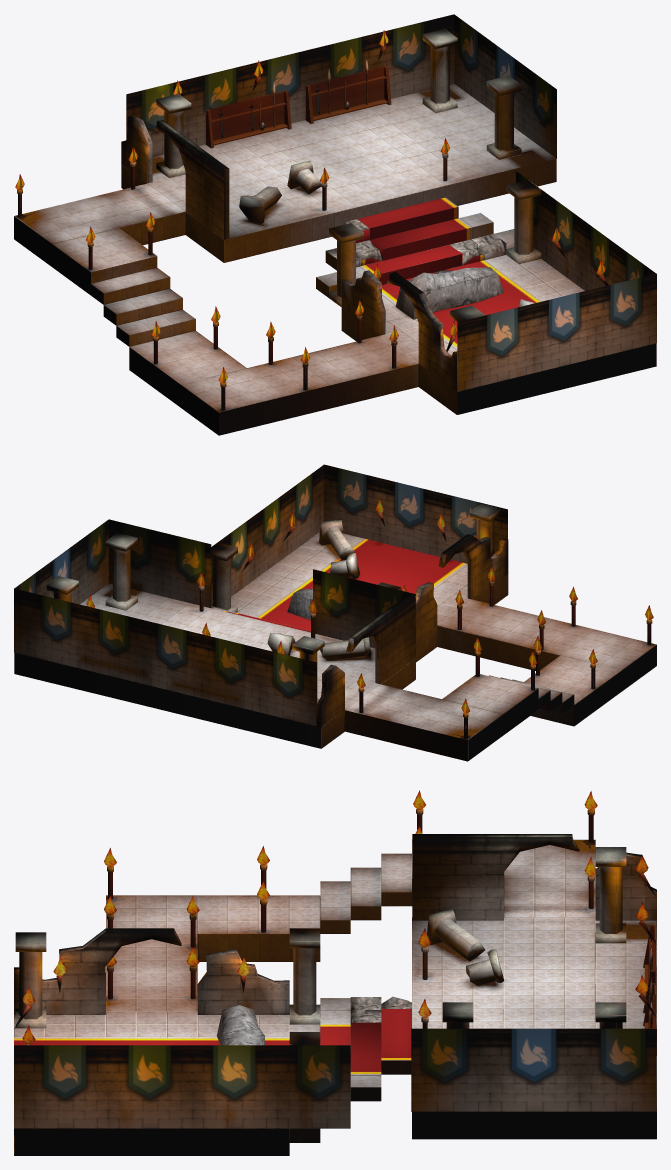
File: castle.obj
3 views of the same model, one above another, from view 1: azimuth 30°, elevation 25°; view 2: azimuth 150°, elevation 25°; view 3: azimuth 270°, elevation 25° (orthographic). The views are drawn at different scales.
Visible parts, largest first — view 1: Cube.031_Cube.037; view 2: Cube.031_Cube.037; view 3: Cube.031_Cube.037.
Boxes of the visible parts, x1,y1,x2,y2 form: Cube.031_Cube.037: (14,14,656,435); Cube.031_Cube.037: (14,464,656,761); Cube.031_Cube.037: (14,790,656,1155).
Size of the model in its own units: 211 by 63.33 by 210.
